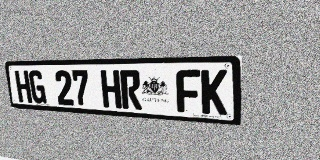2: (54, 70, 74, 106)
7: (71, 70, 91, 107)
F: (176, 70, 201, 113)
G: (28, 70, 47, 104)
H: (100, 70, 122, 108), (14, 70, 32, 103)
K: (201, 70, 227, 115)
R: (120, 70, 142, 110)
